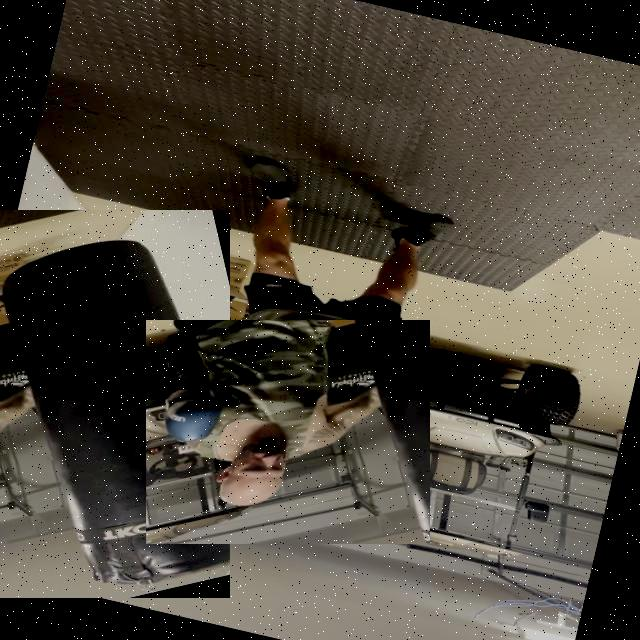punch: (146, 320, 430, 544)
